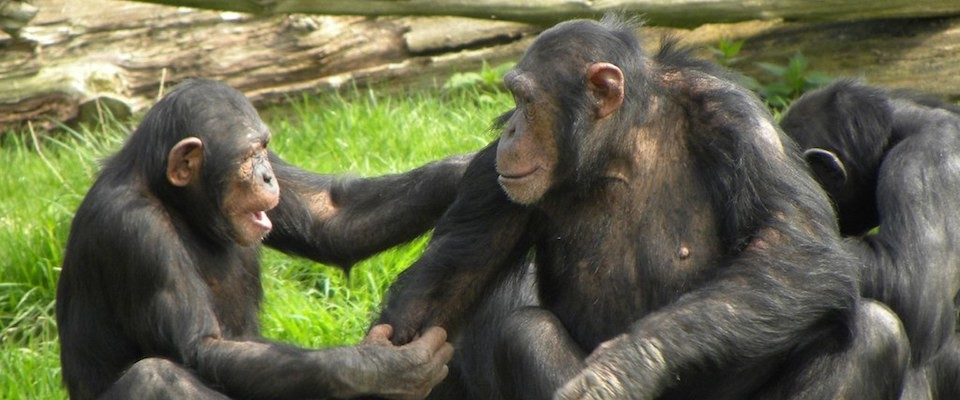Chimpanzee: (413, 28, 847, 400), (82, 84, 280, 394), (793, 93, 960, 400)
